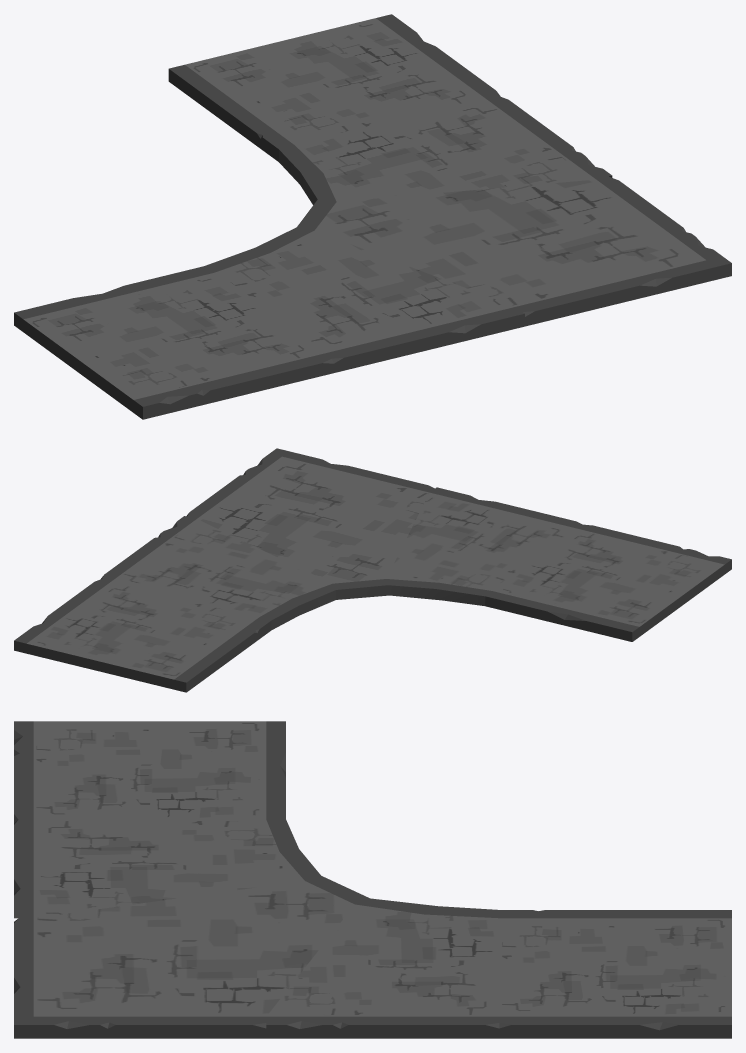
The model's file is SM_Env_City_Footpath_Corner_02.fbx.
3 views of the same model, one above another, from view 1: azimuth 30°, elevation 25°; view 2: azimuth 150°, elevation 25°; view 3: azimuth 270°, elevation 25° (orthographic). The views are drawn at different scales.
Visible parts, largest first — view 1: SM_Env_City_Footpath_Corner_02; view 2: SM_Env_City_Footpath_Corner_02; view 3: SM_Env_City_Footpath_Corner_02.
Boxes of the visible parts, x1,y1,x2,y2 form: SM_Env_City_Footpath_Corner_02: (14,14,731,419); SM_Env_City_Footpath_Corner_02: (14,448,731,692); SM_Env_City_Footpath_Corner_02: (14,721,731,1038).
Size of the model in its own units: 7.71 by 0.1616 by 7.71.
